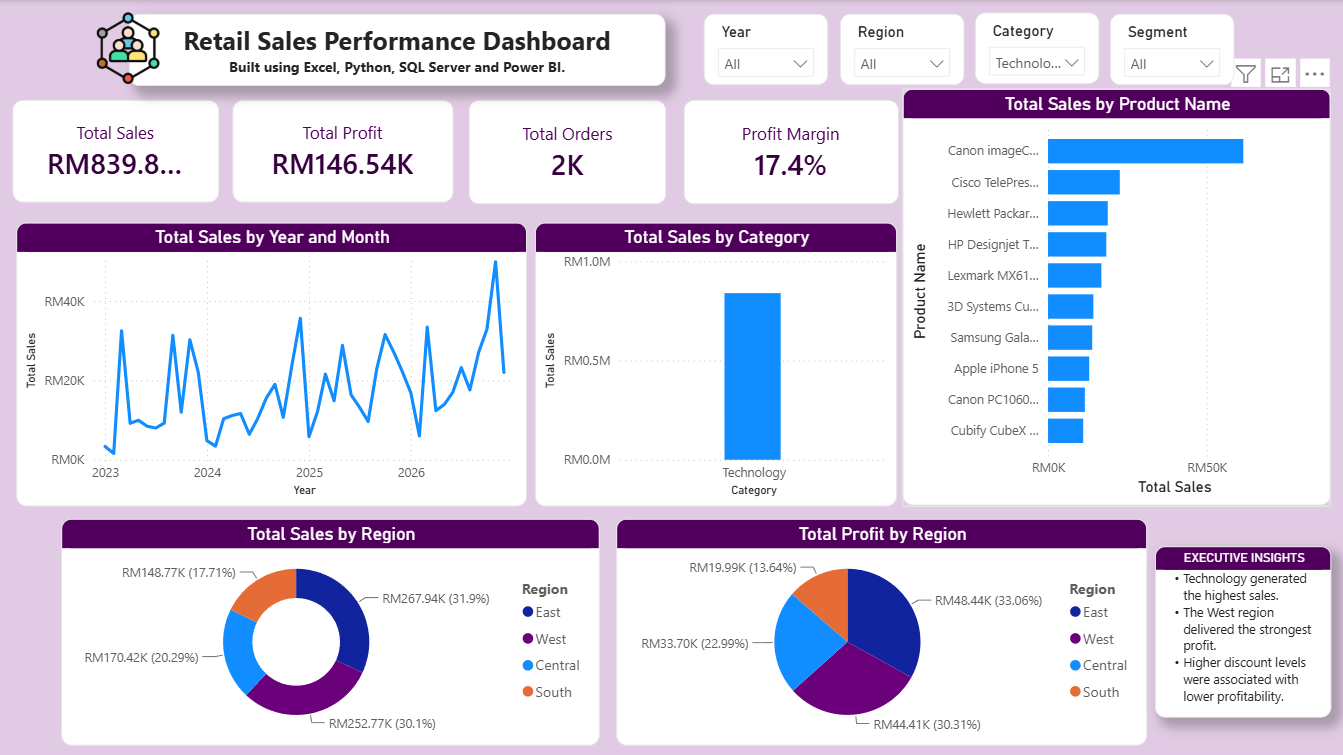

The dashboard page shown, as its layout file describes it:
{"tool":"powerbi","page":{"name":"Page 1","canvas":[1280,720],"ordinal":0},"visuals":[{"type":"cardVisual","fields":{"Data":["Orders.Total Sales"]},"box":[11.9,95.2,196.4,97.6],"z":0},{"type":"cardVisual","fields":{"Data":["Orders.Total Profit"]},"box":[221.4,95.2,210.7,97.6],"z":1000},{"type":"cardVisual","fields":{"Data":["Orders.Total Orders"]},"box":[446.4,95.2,188.1,98.8],"z":2000},{"type":"cardVisual","fields":{"Data":["Orders.Profit Margin"]},"box":[651.2,95.2,204.8,98.8],"z":3000},{"type":"lineChart","fields":{"Y":["Orders.Total Sales"],"Category":["DateTable.Date.Variation.Date Hierarchy.Year","DateTable.Date.Variation.Date Hierarchy.Month"]},"box":[15,211.7,486.7,270],"z":4000},{"type":"donutChart","fields":{"Category":["Orders.Region"],"Y":["Orders.Total Sales"]},"box":[58.6,494.3,512.9,215.7],"z":5000},{"type":"barChart","fields":{"Y":["Orders.Total Sales"],"Category":["Orders.Product Name"]},"box":[860,85,408.3,396.7],"z":6000},{"type":"clusteredColumnChart","fields":{"Y":["Orders.Total Sales"],"Category":["Orders.Category"]},"box":[510,211.7,345,270],"z":7000},{"type":"slicer","fields":{"Values":["DateTable.Date.Variation.Date Hierarchy.Year"]},"box":[670,13.3,118.3,68.3],"z":8000},{"type":"textbox","box":[122.9,12.9,511.4,68.6],"z":9000},{"type":"pieChart","fields":{"Category":["Orders.Region"],"Y":["Orders.Total Profit"]},"box":[587.1,494.3,505.7,215.7],"z":10000},{"type":"slicer","fields":{"Values":["Orders.Region"]},"box":[800,13.3,118.3,68.3],"z":11000},{"type":"slicer","fields":{"Values":["Orders.Category"]},"box":[928.3,12.5,118.3,68.3],"z":11001},{"type":"slicer","fields":{"Values":["Orders.Segment"]},"box":[1056.7,13.3,118.3,68.3],"z":11002},{"type":"image","box":[77.8,11.1,90,70],"z":11003},{"type":"textbox","title":"EXECUTIVE INSIGHTS","box":[1100,520,168.3,163.3],"z":11004}]}

Visuals, with their boxes in screenshot pixels (x1, y1, x2, y2), scaled from the page's 1280x720 canvas onto the 1343x755 screenshot:
cardVisual - Orders.Total Sales: (12, 100, 219, 202)
cardVisual - Orders.Total Profit: (232, 100, 453, 202)
cardVisual - Orders.Total Orders: (468, 100, 666, 203)
cardVisual - Orders.Profit Margin: (683, 100, 898, 203)
lineChart - Orders.Total Sales x DateTable.Date.Variation.Date Hierarchy.Year: (16, 222, 526, 505)
donutChart - Orders.Region x Orders.Total Sales: (61, 518, 600, 745)
barChart - Orders.Total Sales x Orders.Product Name: (902, 89, 1331, 505)
clusteredColumnChart - Orders.Total Sales x Orders.Category: (535, 222, 897, 505)
slicer - DateTable.Date.Variation.Date Hierarchy.Year: (703, 14, 827, 86)
textbox: (129, 14, 666, 85)
pieChart - Orders.Region x Orders.Total Profit: (616, 518, 1147, 745)
slicer - Orders.Region: (839, 14, 963, 86)
slicer - Orders.Category: (974, 13, 1098, 85)
slicer - Orders.Segment: (1109, 14, 1233, 86)
image: (82, 12, 176, 85)
"EXECUTIVE INSIGHTS" textbox: (1154, 545, 1331, 717)
